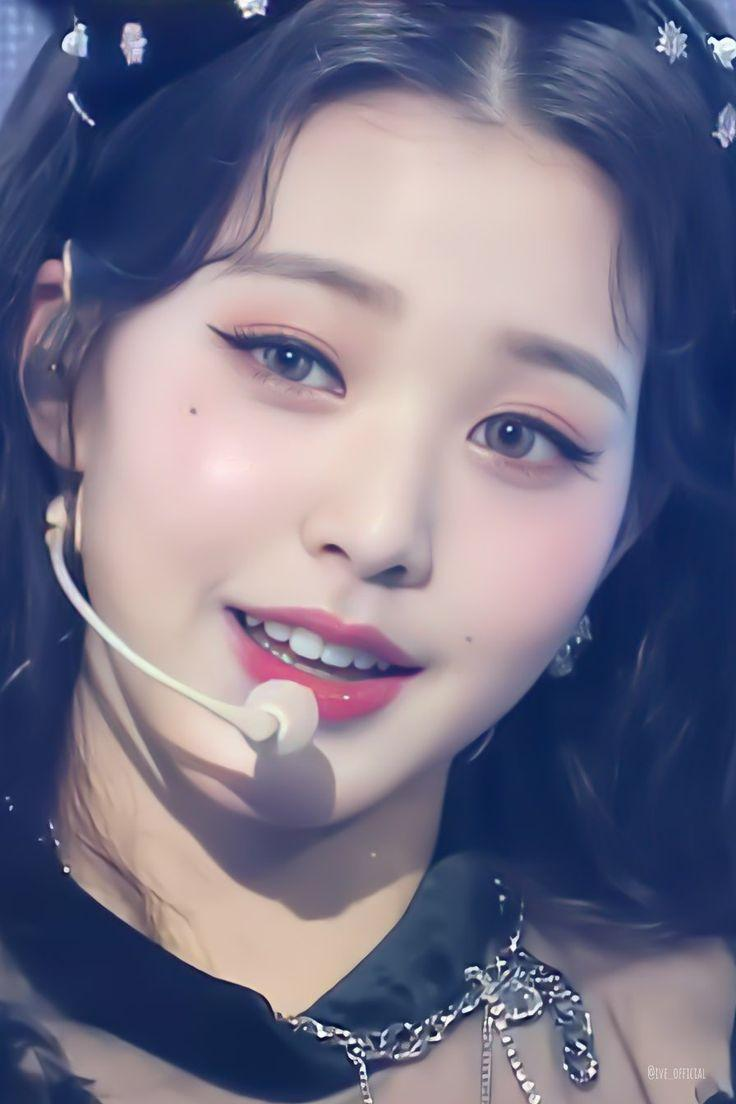earphone: (11, 333, 83, 431)
